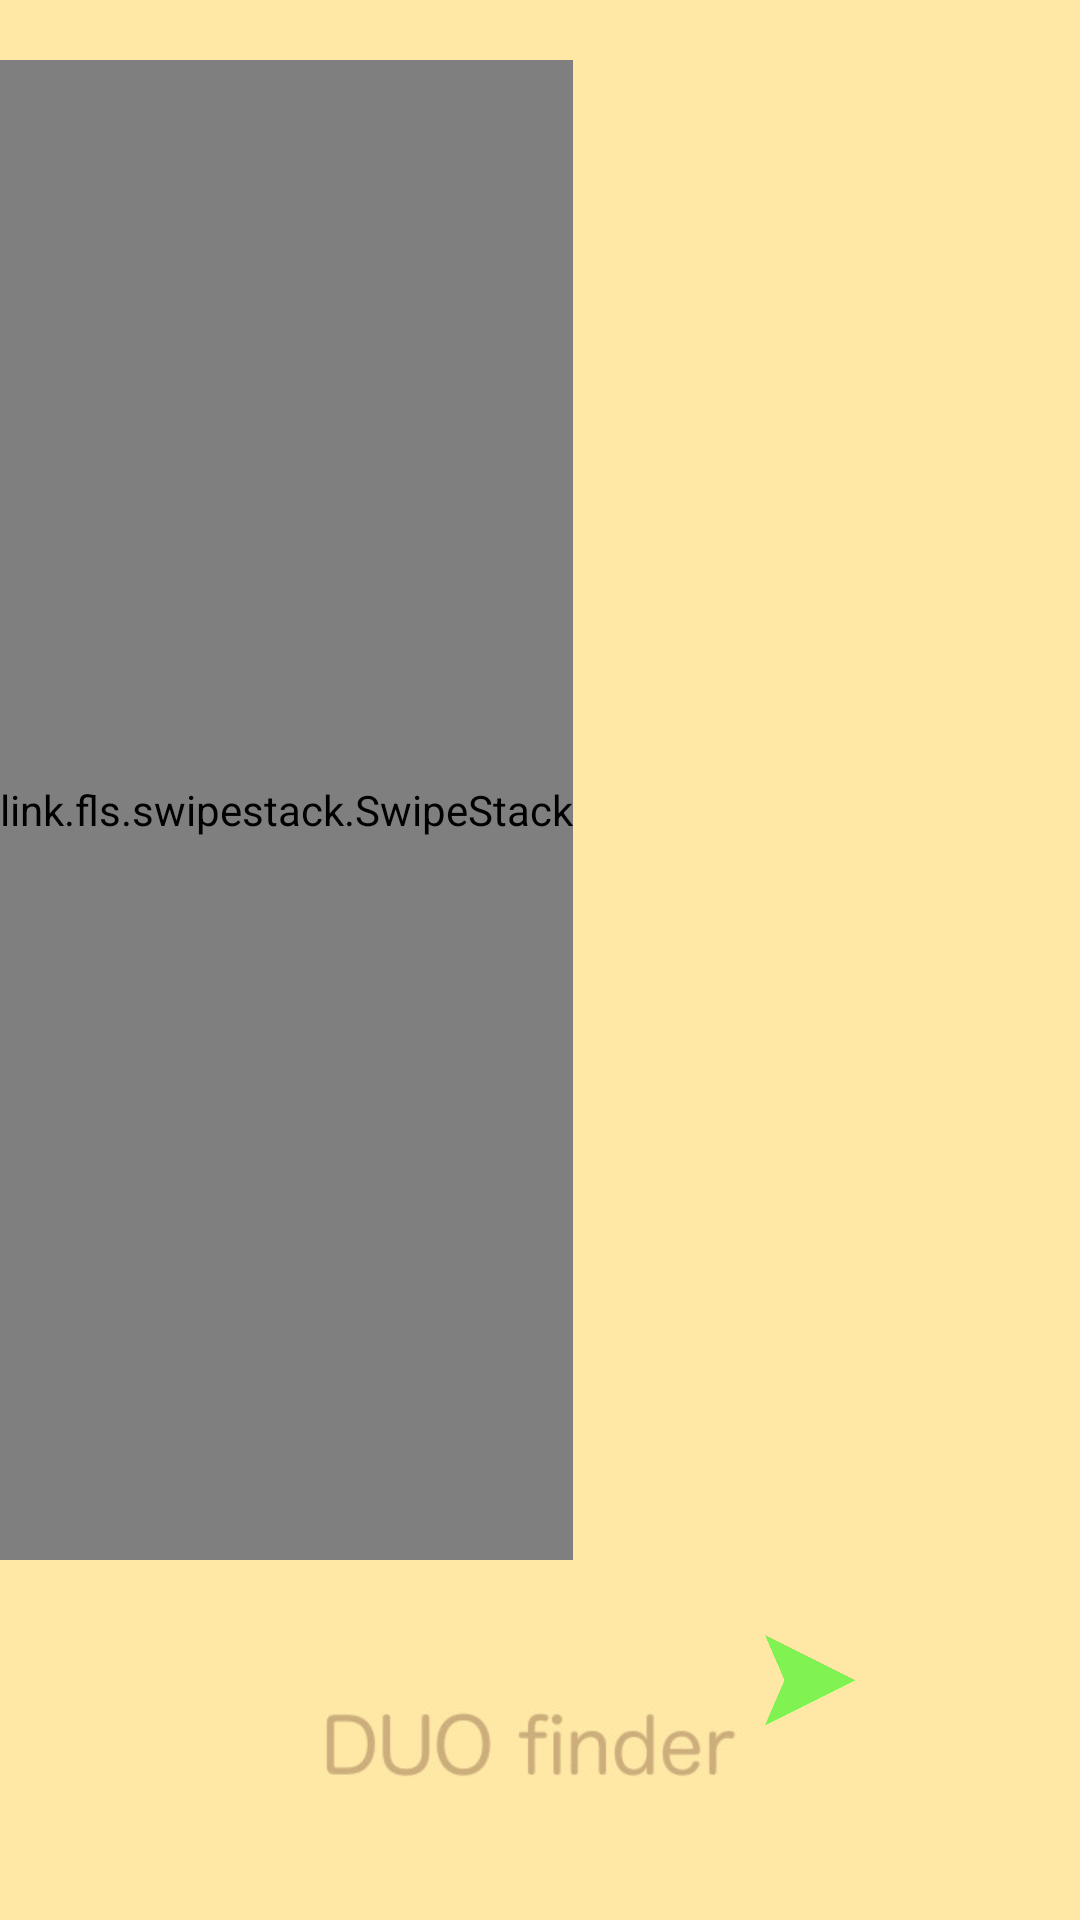

Named icons in this screenshot (1080px x 1920px) and their centers, [x,y]:
greenarr: [810,1680]
